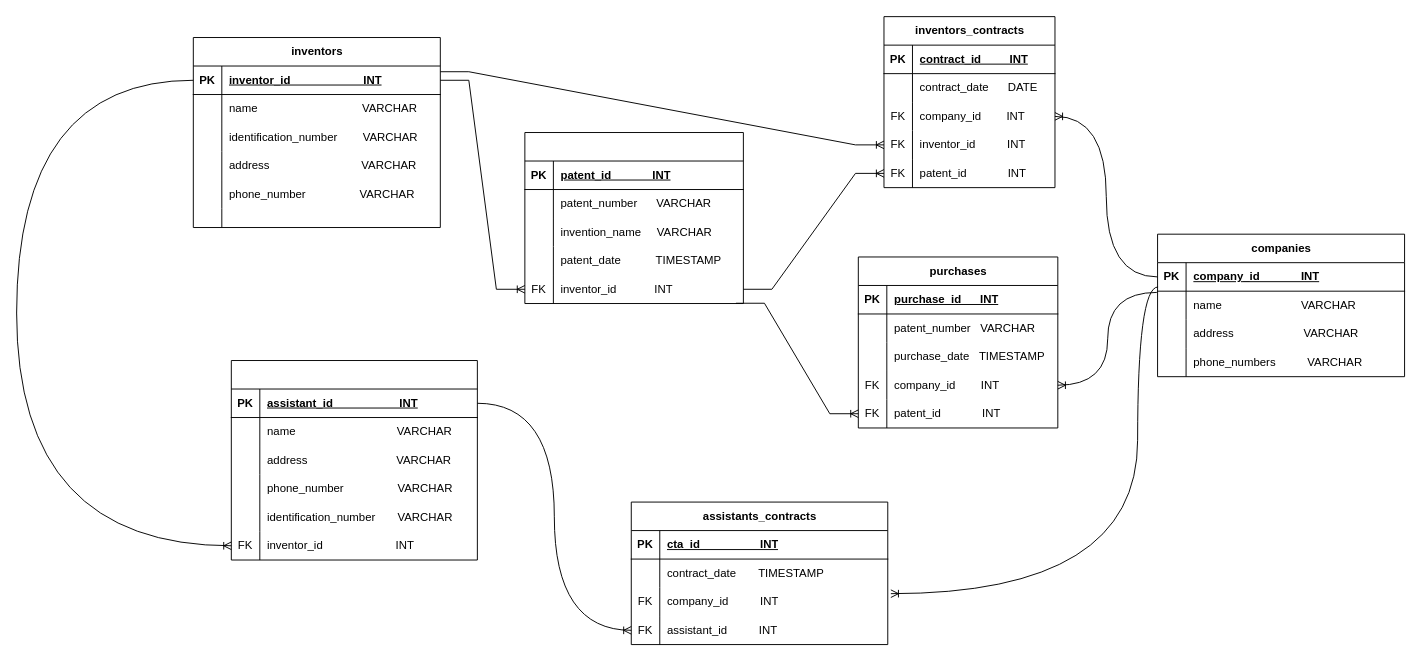
Image size: 1421x661. Some labels were removed from this diagram. Each missing label, with the box of its shape:
assistants: (230, 360, 477, 560)
patents: (524, 132, 743, 304)
